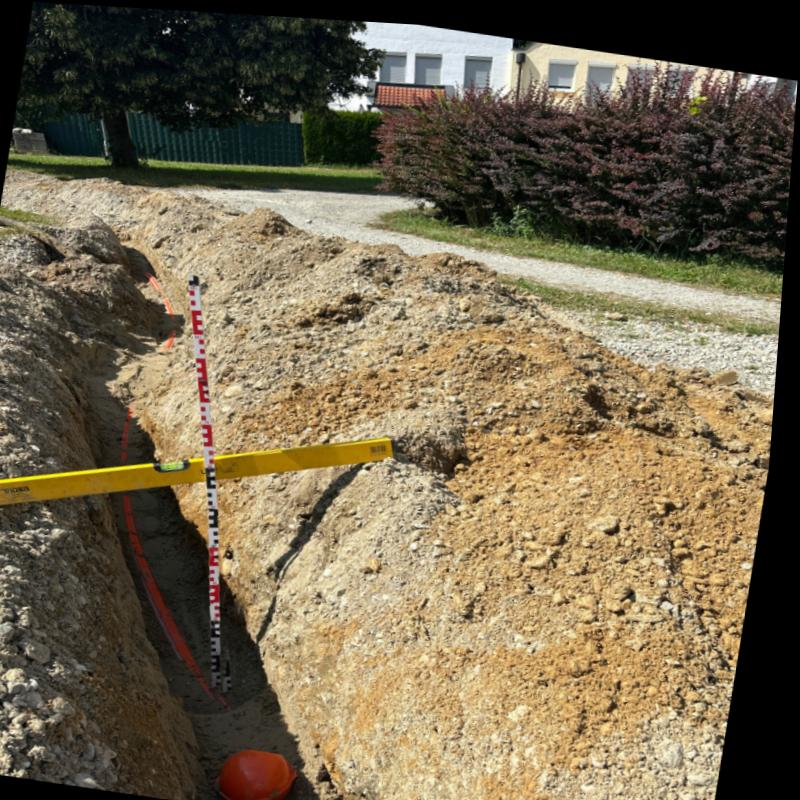Kugelmarker: (225, 746, 309, 800)
Orang-Speednetrohrchen: (131, 494, 233, 700)
